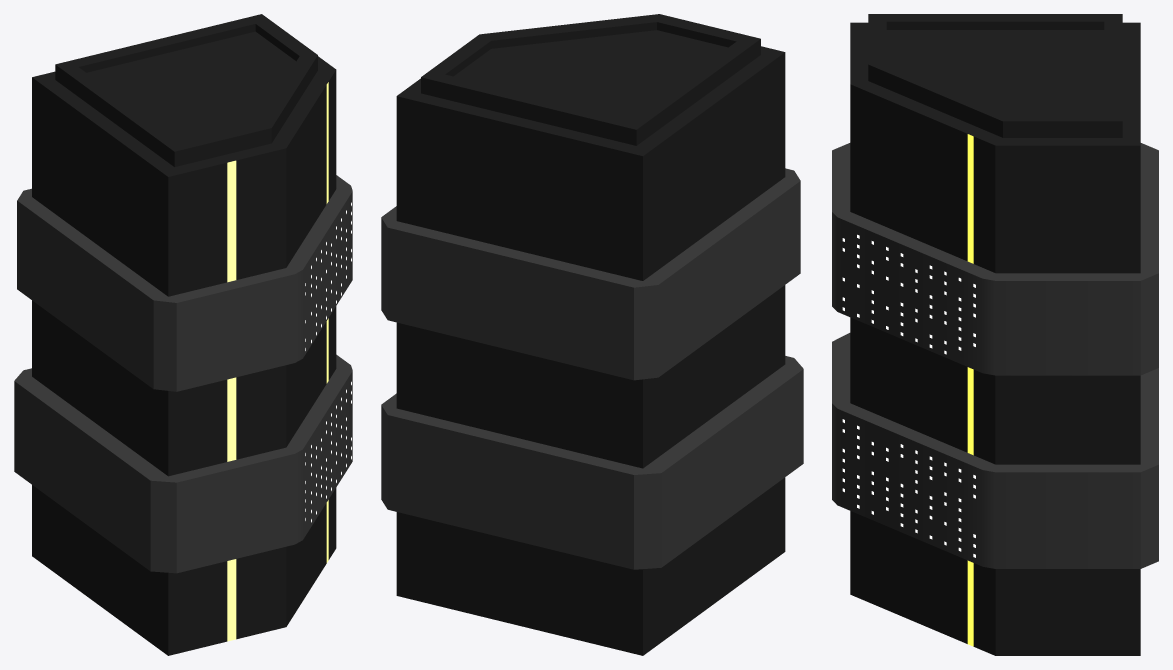
The model's file is building_3.gltf.
3 views of the same model, side by side, from view 1: azimuth 30°, elevation 25°; view 2: azimuth 150°, elevation 25°; view 3: azimuth 270°, elevation 25° (orthographic). The views are drawn at different scales.
Visible parts, largest first — view 1: Cube.004, Plane.004; view 2: Cube.004; view 3: Cube.004, Plane.004.
Part boxes in pixels (x1,y1,x2,y2): Cube.004: (14, 14, 352, 655); Plane.004: (305, 202, 351, 522); Cube.004: (381, 14, 803, 655); Cube.004: (832, 14, 1158, 655); Plane.004: (842, 234, 975, 557).
Size of the model in its own units: 91 by 160 by 90.
